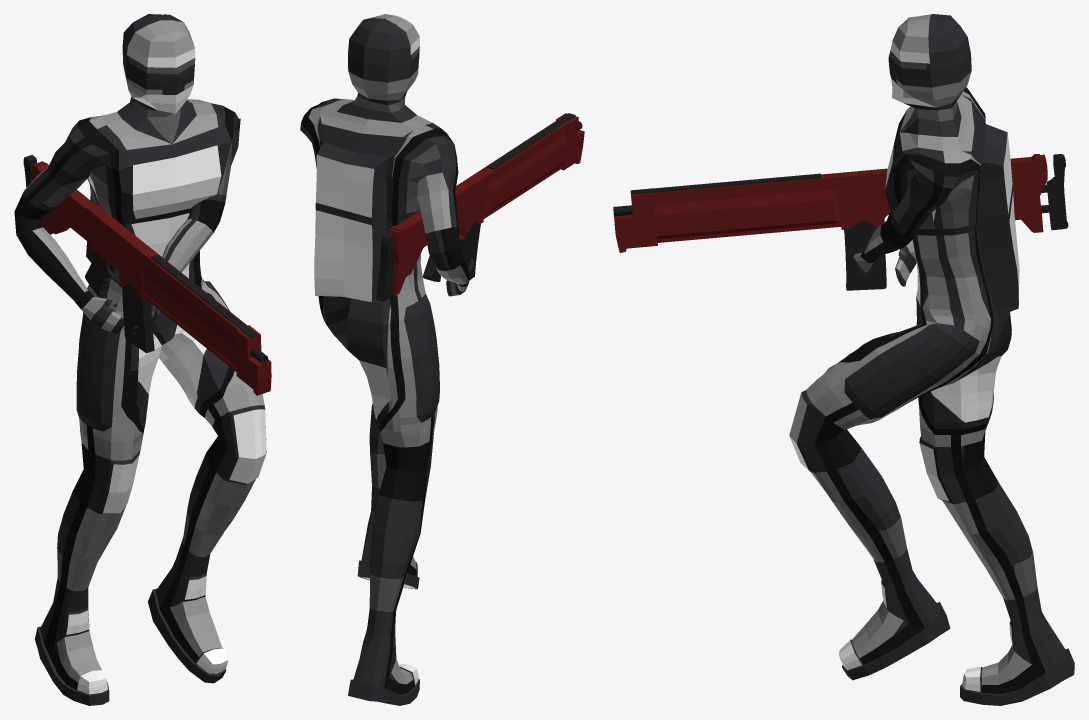
Rendered from SCR6.obj.
3 views of the same model, side by side, from view 1: azimuth 30°, elevation 25°; view 2: azimuth 150°, elevation 25°; view 3: azimuth 270°, elevation 25° (orthographic). The views are drawn at different scales.
Parts seen in each view (by area): view 1: metarig_object_metarig_mesh, Cube.001; view 2: metarig_object_metarig_mesh, Cube.001; view 3: metarig_object_metarig_mesh, Cube.001.
Boxes of the visible parts, bbox=[...] form: metarig_object_metarig_mesh: bbox=[14, 14, 266, 705]; Cube.001: bbox=[23, 155, 271, 395]; metarig_object_metarig_mesh: bbox=[300, 14, 474, 705]; Cube.001: bbox=[376, 113, 584, 301]; metarig_object_metarig_mesh: bbox=[789, 14, 1074, 705]; Cube.001: bbox=[613, 154, 1068, 290].
Size of the model in its own units: 0.4608 by 1.55 by 0.927.
2 materials, 2 textured.
